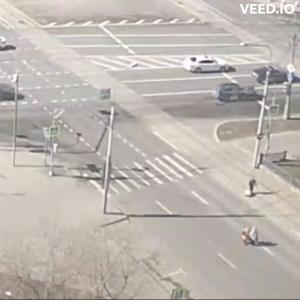car: (215, 80, 269, 106), (185, 57, 231, 75), (254, 62, 294, 82), (1, 83, 27, 103)
